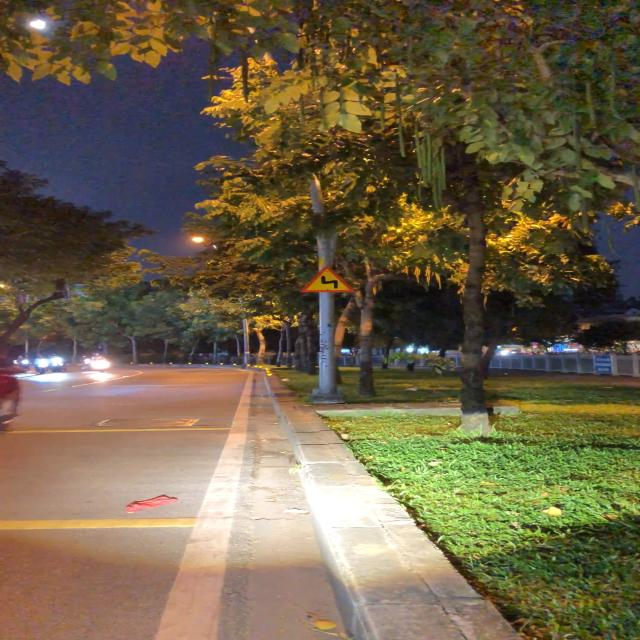Bien bao nhieu cho ngoat nguy hiem lien tiep: (296, 265, 357, 294)
